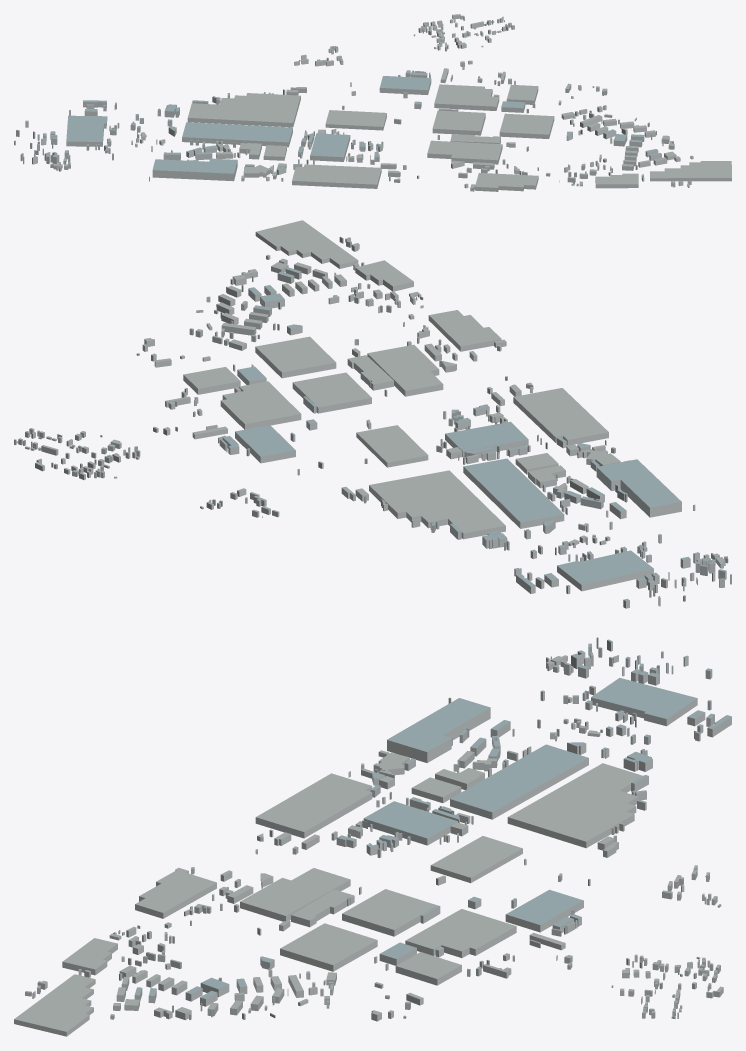
File: far.glb
The picture shows the model from 3 angles, top to bottom: view 1: azimuth 30°, elevation 25°; view 2: azimuth 150°, elevation 25°; view 3: azimuth 270°, elevation 25°; orthographic projection. The views are drawn at different scales.
Size of the model in its own units: 2149 by 28.6 by 1677.
